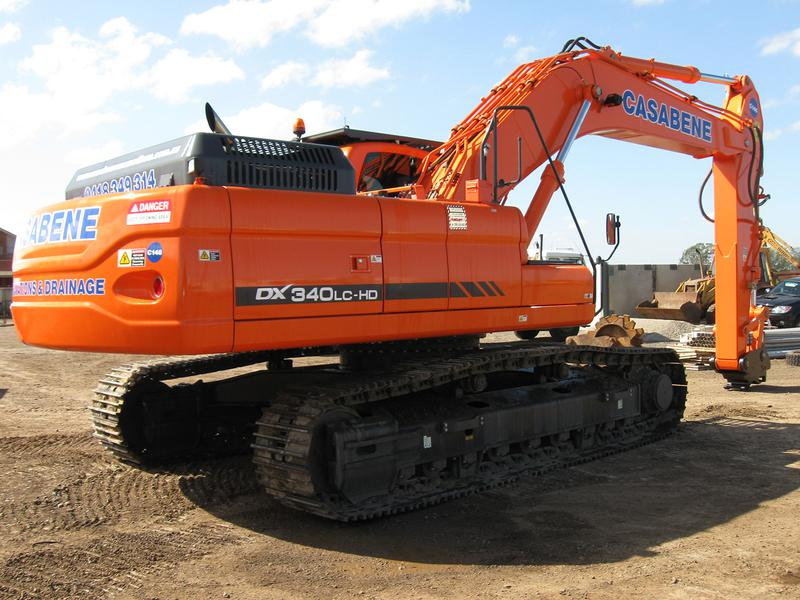shovel: (10, 33, 785, 534)
